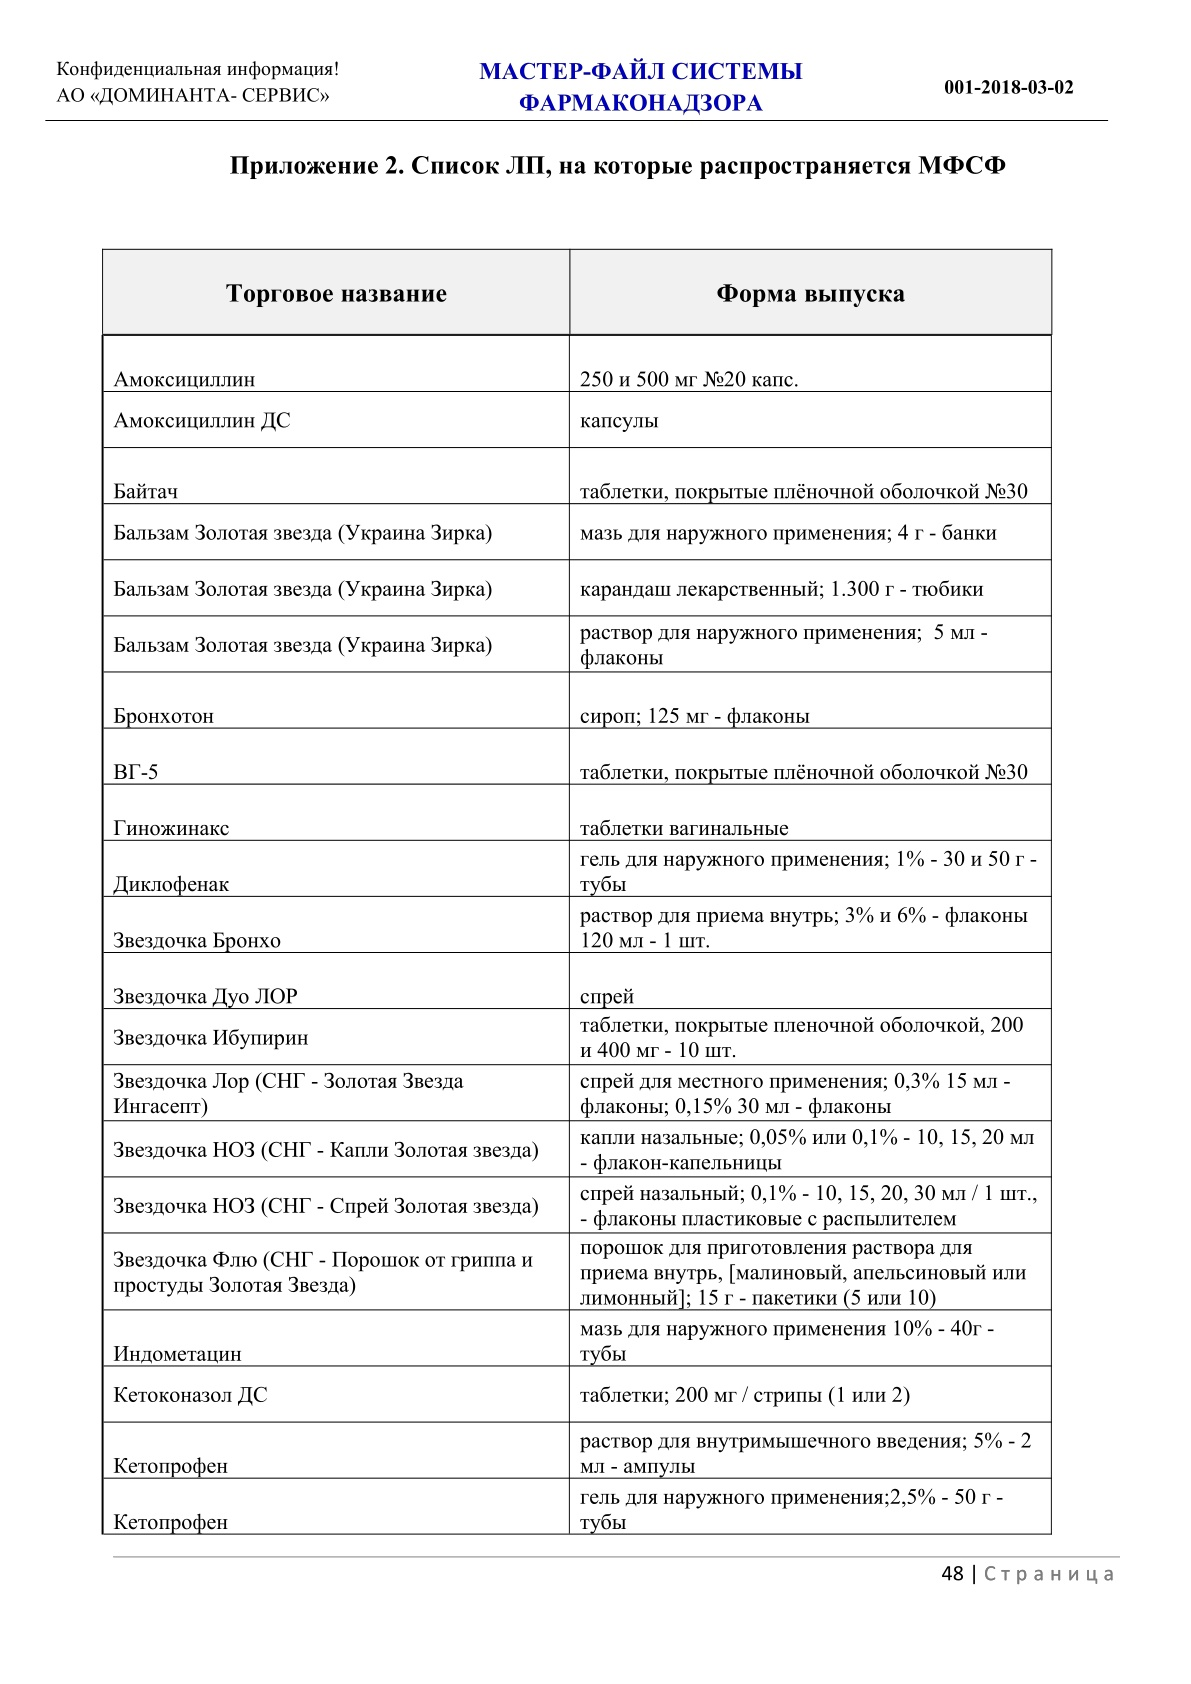full_lined: (101, 247, 1053, 1536)
